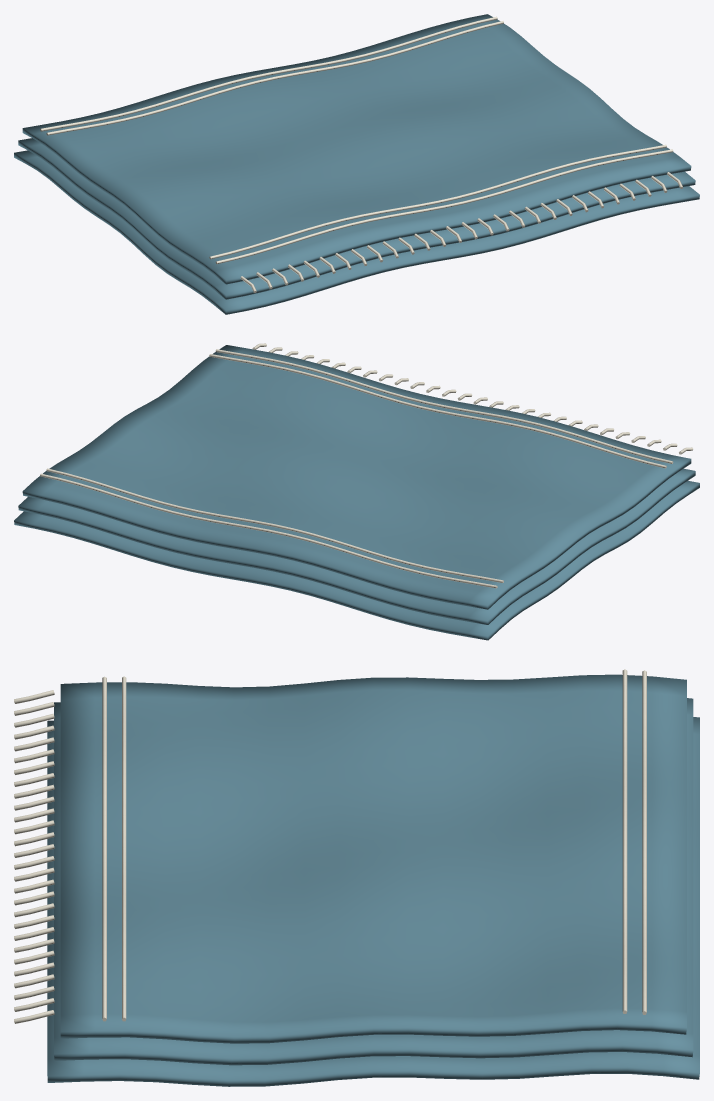
File: throw-blanket.glb
3 renders of one model, top to bottom at view 1: azimuth 30°, elevation 25°; view 2: azimuth 150°, elevation 25°; view 3: azimuth 270°, elevation 25°, orthographic. The views are drawn at different scales.
Parts seen in each view (by area): view 1: throw-blanket authored assembly; view 2: throw-blanket authored assembly; view 3: throw-blanket authored assembly.
Part boxes in pixels (left/top/right/bottom): throw-blanket authored assembly: left=14, top=14, right=699, bottom=314; throw-blanket authored assembly: left=14, top=343, right=699, bottom=640; throw-blanket authored assembly: left=14, top=669, right=699, bottom=1086.
Bounding box in the file's own units: 0.54 × 0.05 × 0.44.
